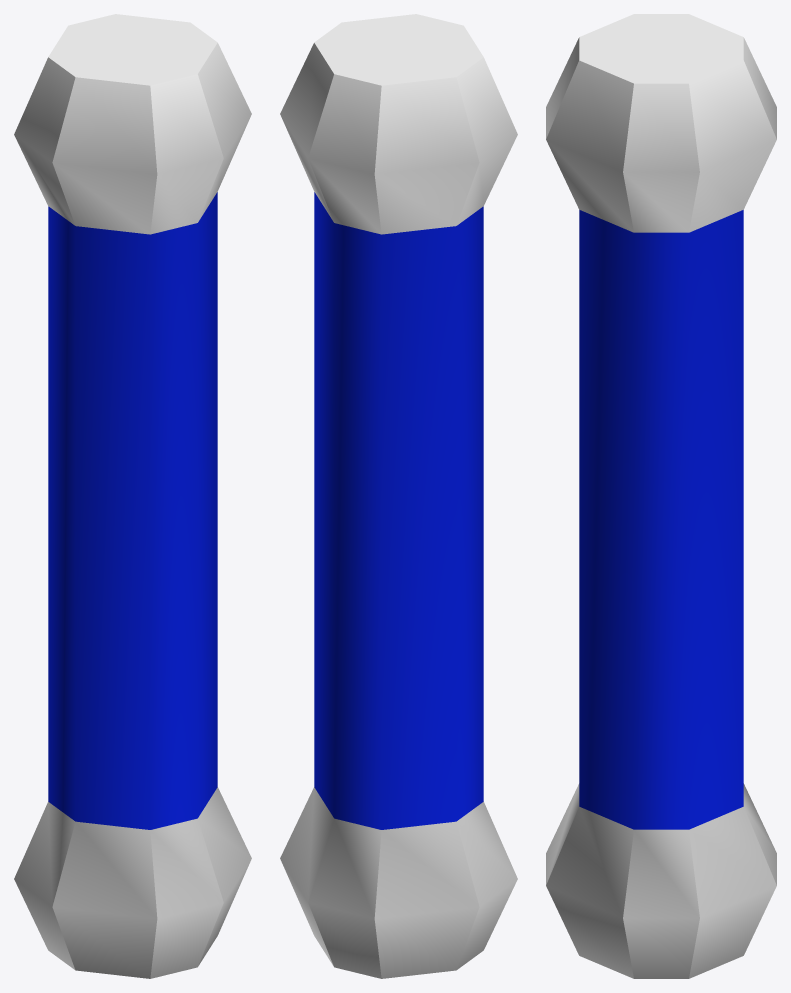
Rendered from racketL.fbx.
The picture shows the model from 3 angles, left to right: view 1: azimuth 30°, elevation 25°; view 2: azimuth 150°, elevation 25°; view 3: azimuth 270°, elevation 25°; orthographic projection.
Parts seen in each view (by area): view 1: pCube2; view 2: pCube2; view 3: pCube2.
Boxes of the visible parts, x1,y1,x2,y2 form: pCube2: [14, 14, 251, 978]; pCube2: [280, 14, 517, 978]; pCube2: [546, 14, 776, 978].
Bounding box in the file's own units: 0.7013 × 3 × 0.7013.
1 material, 1 textured.
